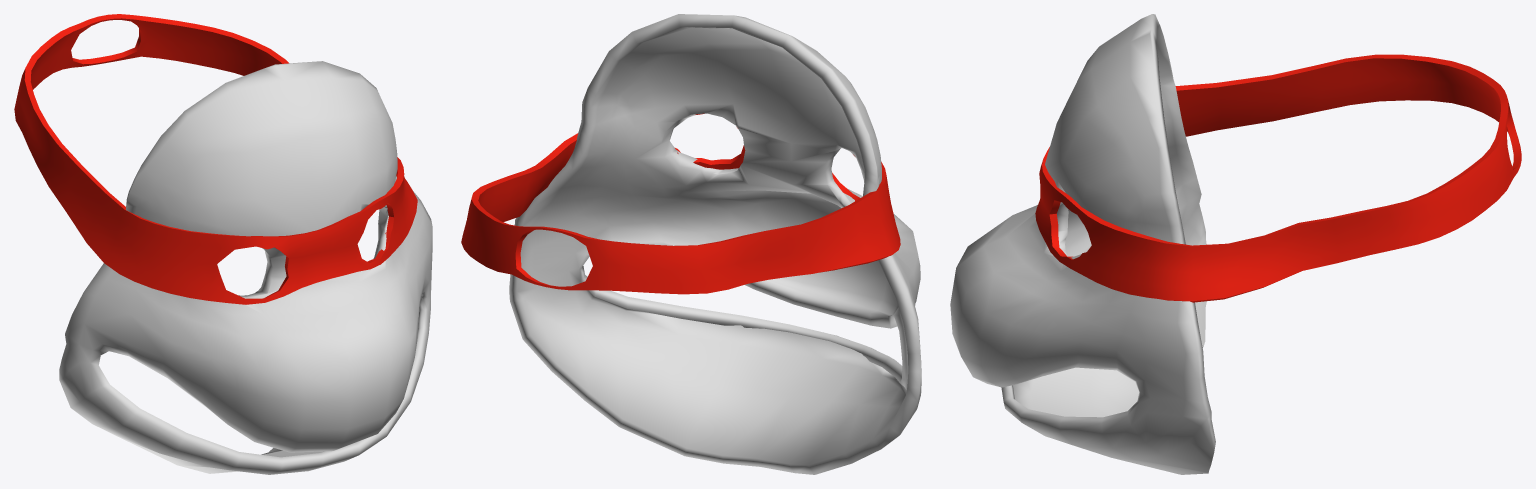
The model's file is Mask.fbx.
3 views of the same model, side by side, from view 1: azimuth 30°, elevation 25°; view 2: azimuth 150°, elevation 25°; view 3: azimuth 270°, elevation 25° (orthographic). The views are drawn at different scales.
Parts seen in each view (by area): view 1: Head_low_poly, цу; view 2: Head_low_poly, цу; view 3: Head_low_poly, цу.
Boxes of the visible parts, x1=… form: Head_low_poly: x1=59, y1=61, x2=432, y2=474; цу: x1=14, y1=14, x2=417, y2=304; Head_low_poly: x1=509, y1=14, x2=921, y2=474; цу: x1=461, y1=113, x2=900, y2=294; Head_low_poly: x1=950, y1=14, x2=1215, y2=474; цу: x1=1035, y1=54, x2=1521, y2=302.
Bounding box in the file's own units: 22.35 × 23.2 × 27.8.
